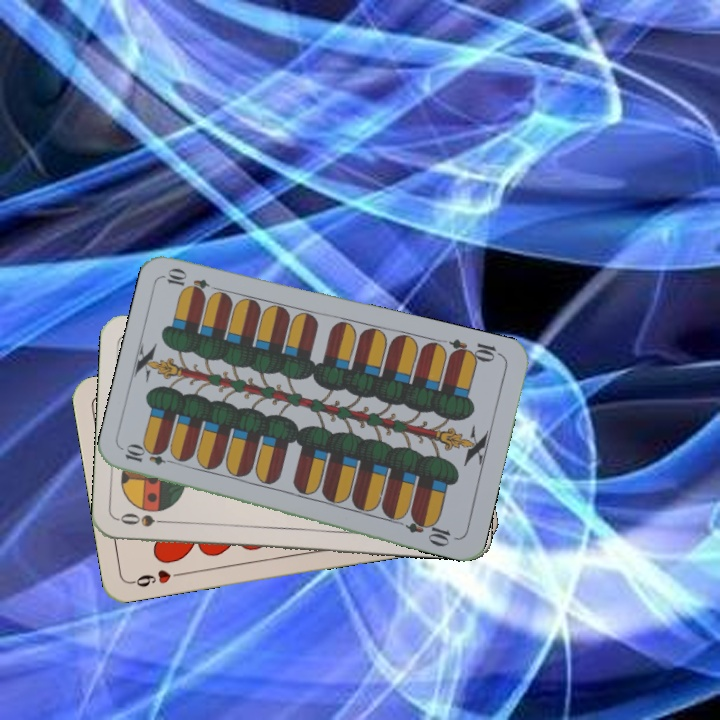E10: (445, 335, 505, 365), (121, 443, 180, 468)
H9: (127, 565, 186, 590)
SO: (116, 509, 175, 529)
